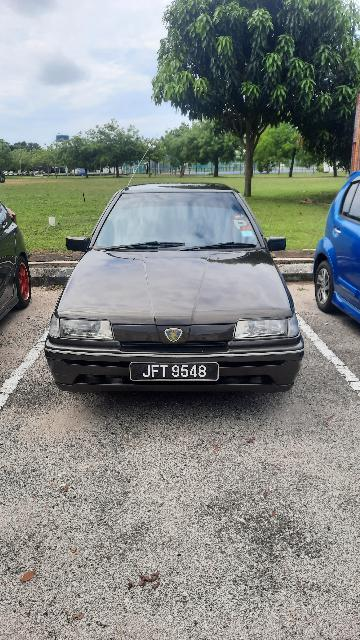License_Plate: (127, 361, 230, 387)
car: (43, 177, 315, 414)
